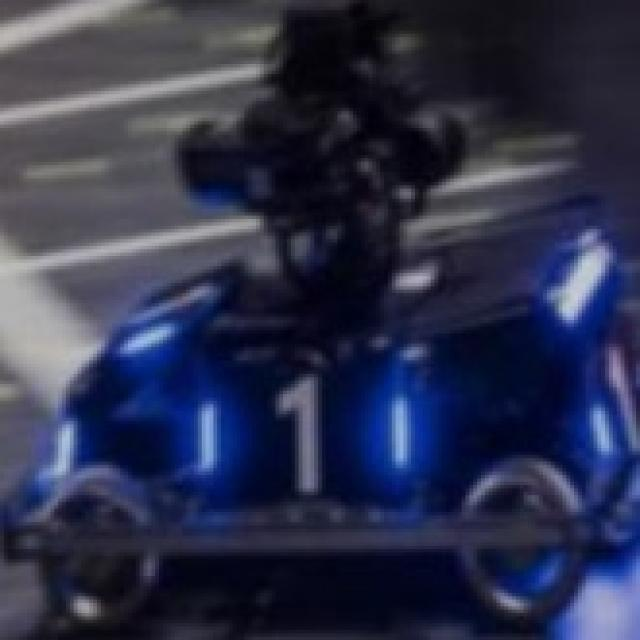B1: (198, 374, 411, 492)
